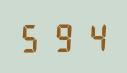five: (18, 20, 47, 53)
four: (79, 19, 108, 52)
nine: (49, 20, 78, 52)
